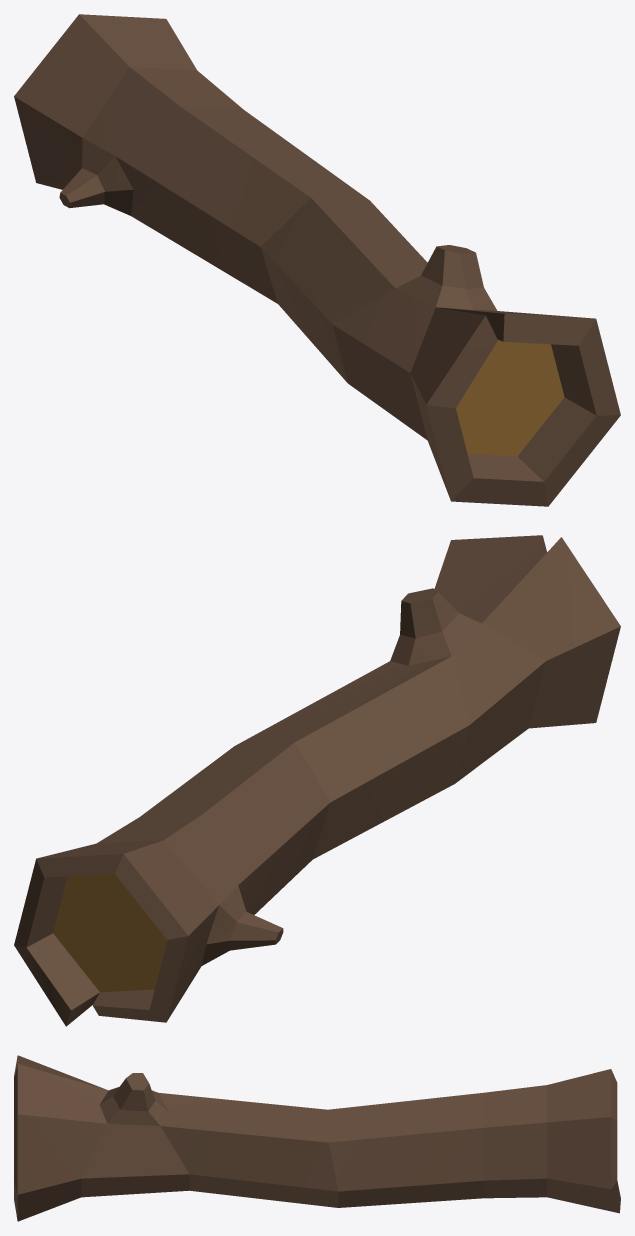
The model's file is tree_pine_log_4.fbx.
3 views of the same model, one above another, from view 1: azimuth 30°, elevation 25°; view 2: azimuth 150°, elevation 25°; view 3: azimuth 270°, elevation 25° (orthographic). The views are drawn at different scales.
Parts seen in each view (by area): view 1: tree_pine_log_4; view 2: tree_pine_log_4; view 3: tree_pine_log_4.
Boxes of the visible parts, left/top/right/bottom form: tree_pine_log_4: left=14, top=14, right=620, bottom=506; tree_pine_log_4: left=14, top=535, right=620, bottom=1026; tree_pine_log_4: left=14, top=1055, right=620, bottom=1221.
Bounding box in the file's own units: 202 × 193 × 731.
